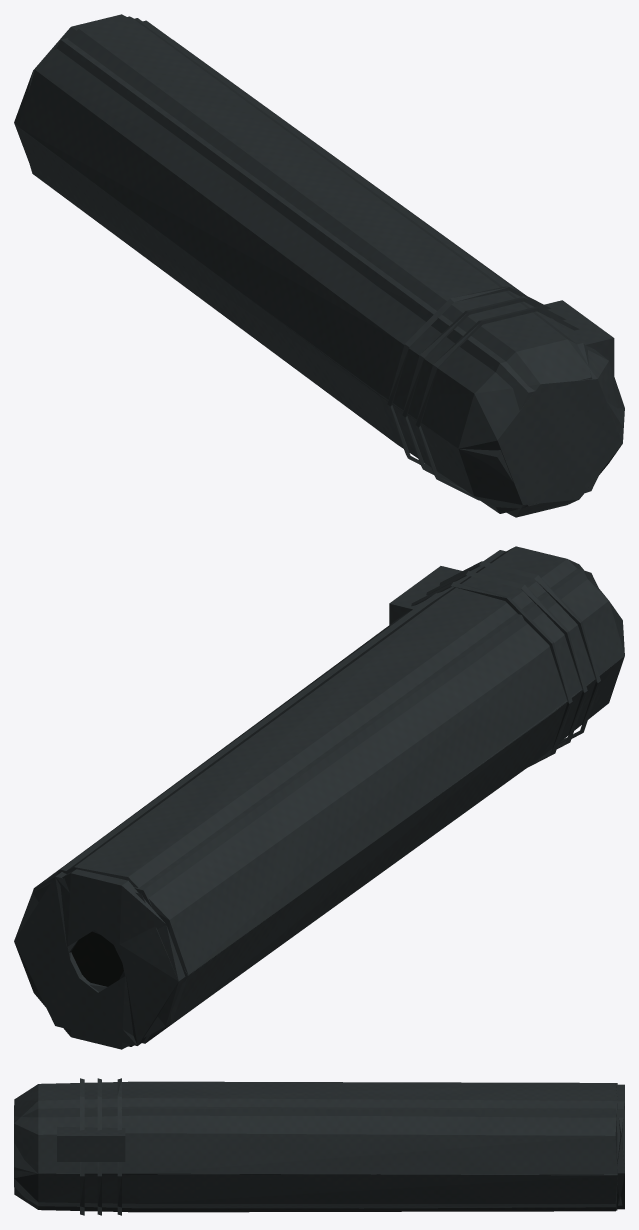
The model's file is ar_suppressor.glb.
3 views of the same model, one above another, from view 1: azimuth 30°, elevation 25°; view 2: azimuth 150°, elevation 25°; view 3: azimuth 270°, elevation 25° (orthographic). The views are drawn at different scales.
Parts seen in each view (by area): view 1: muzzle__ar_suppressor_LOD0_RAID_Secondary_Original_steel, muzzle__ar_suppressor_LOD1_RAID_Secondary_Original_steel; view 2: muzzle__ar_suppressor_LOD0_RAID_Secondary_Original_steel, muzzle__ar_suppressor_LOD1_RAID_Secondary_Original_steel, muzzle__ar_suppressor_LOD0_RAID_Secondary_Original_rubber; view 3: muzzle__ar_suppressor_LOD0_RAID_Secondary_Original_steel, muzzle__ar_suppressor_LOD1_RAID_Secondary_Original_steel.
Boxes of the visible parts, left/top/right/bottom form: muzzle__ar_suppressor_LOD0_RAID_Secondary_Original_steel: left=14, top=14, right=624, bottom=517; muzzle__ar_suppressor_LOD1_RAID_Secondary_Original_steel: left=18, top=18, right=624, bottom=513; muzzle__ar_suppressor_LOD0_RAID_Secondary_Original_steel: left=14, top=546, right=624, bottom=1049; muzzle__ar_suppressor_LOD1_RAID_Secondary_Original_steel: left=14, top=550, right=621, bottom=1045; muzzle__ar_suppressor_LOD0_RAID_Secondary_Original_rubber: left=71, top=931, right=123, bottom=986; muzzle__ar_suppressor_LOD0_RAID_Secondary_Original_steel: left=14, top=1078, right=624, bottom=1215; muzzle__ar_suppressor_LOD1_RAID_Secondary_Original_steel: left=14, top=1081, right=624, bottom=1212.
Bounding box in the file's own units: 0.0631 × 0.06 × 0.2781.
2 materials, 2 textured.
